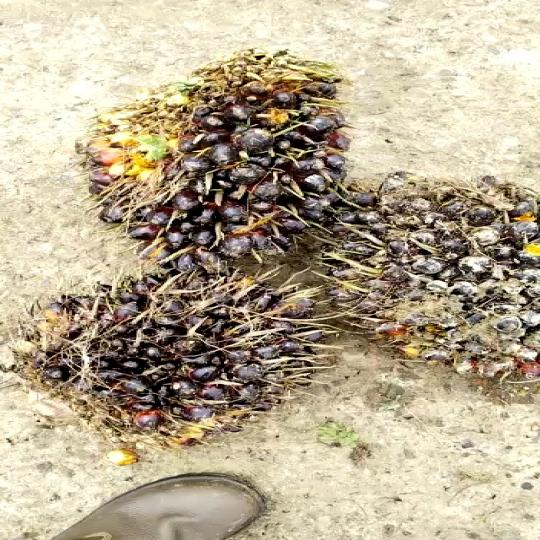mentah: (11, 251, 344, 468), (81, 47, 350, 264), (280, 178, 540, 366)
